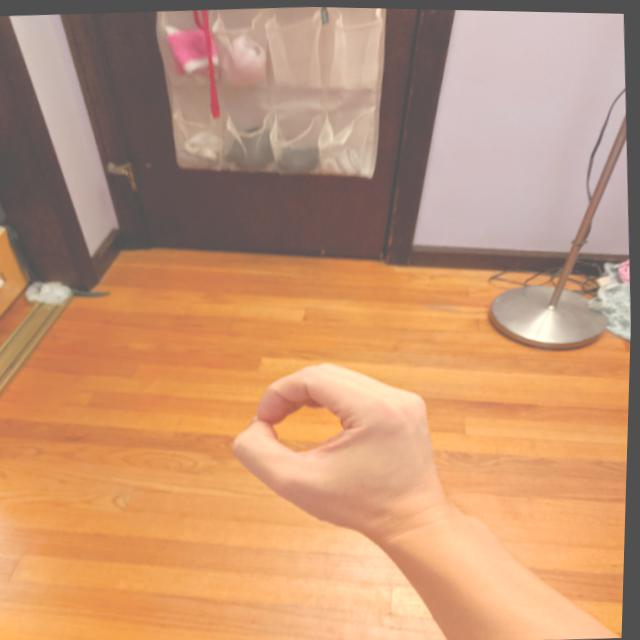O: (220, 349, 458, 542)
